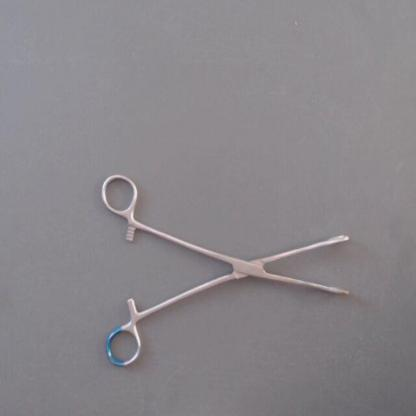Sponge Forceps: (95, 166, 363, 376)
